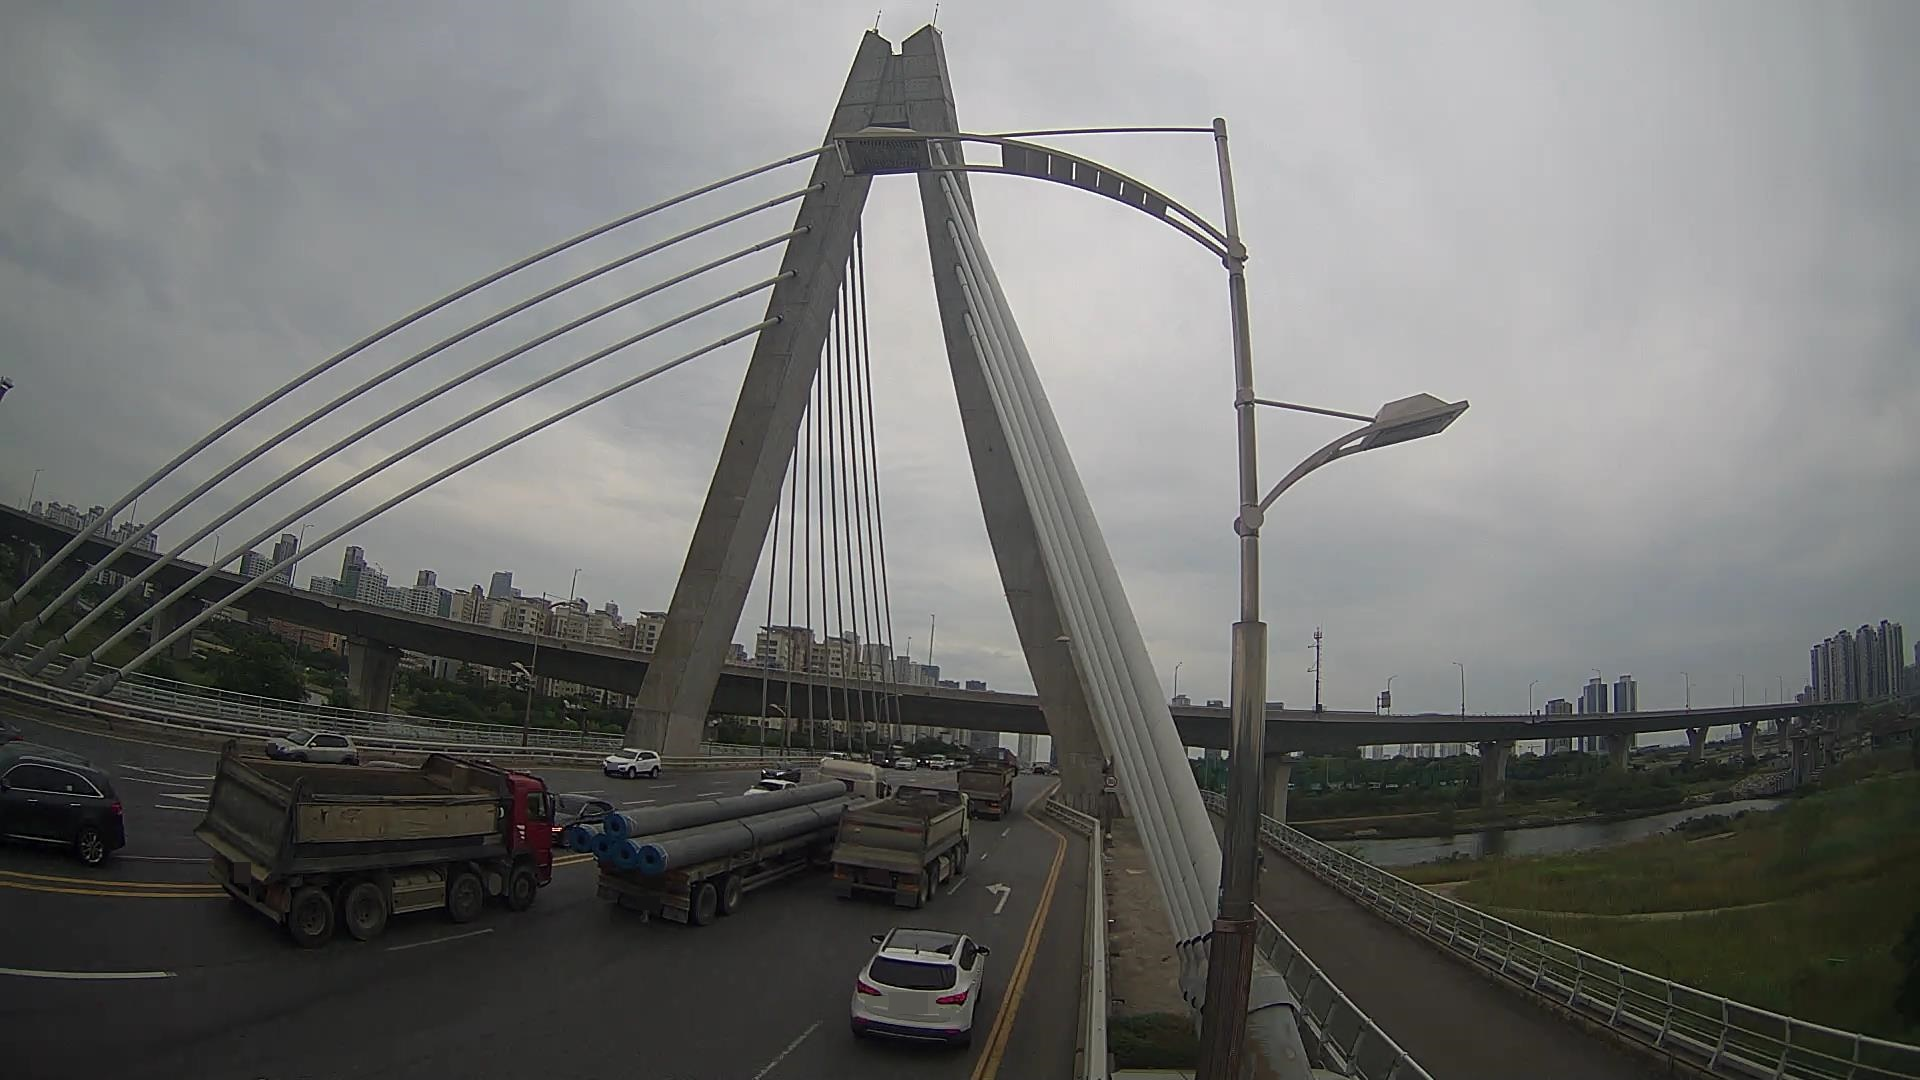정상차량: (194, 740, 564, 945)
